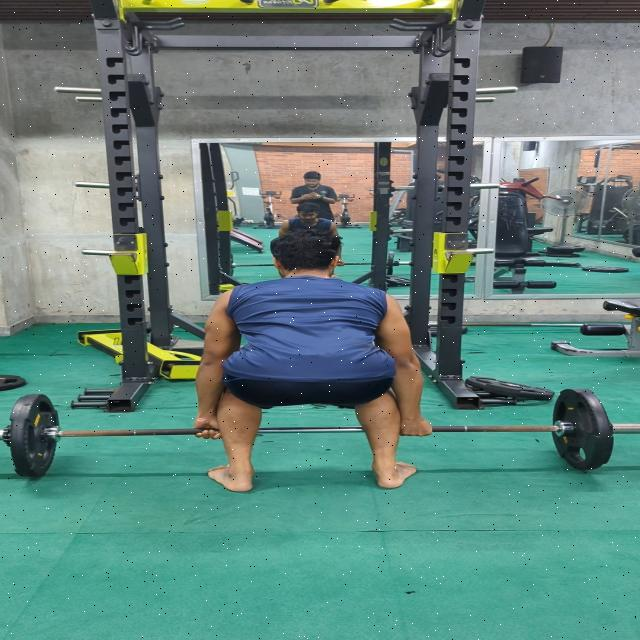Normal_Deadlifts: (187, 224, 439, 497)
